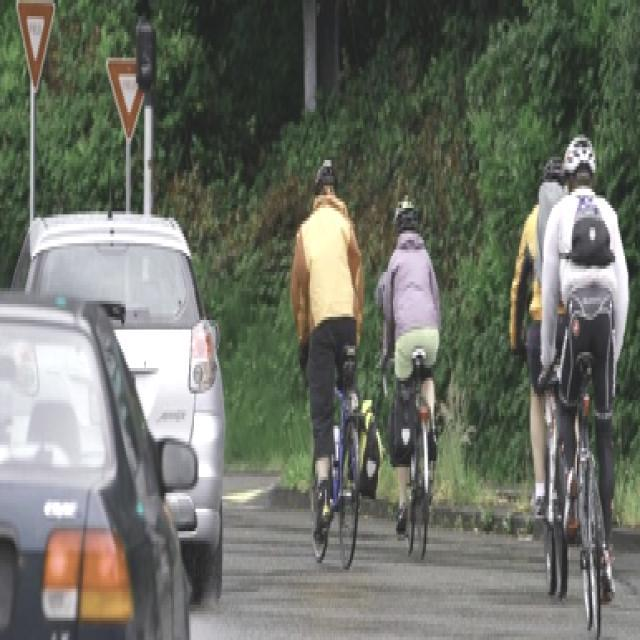Helmet: (304, 147, 348, 205), (388, 188, 428, 246), (564, 131, 600, 192)
